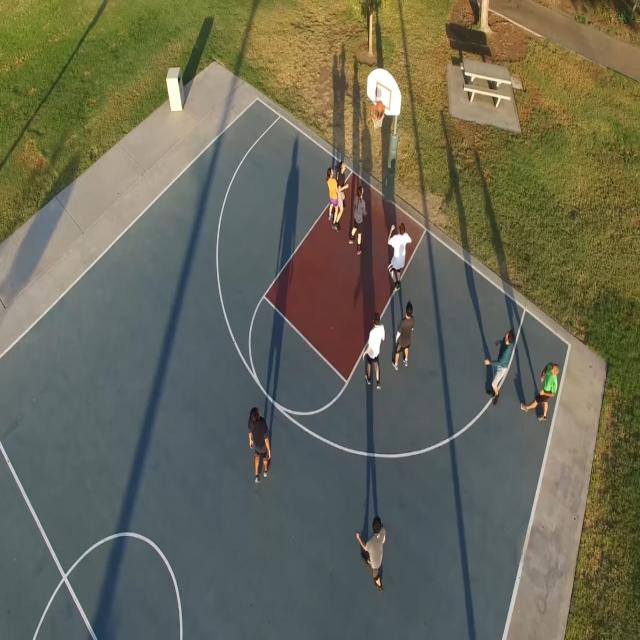humans: (356, 512, 389, 596), (521, 355, 560, 425), (482, 326, 516, 406), (245, 400, 275, 488), (384, 216, 412, 299), (391, 295, 416, 372), (361, 310, 384, 391), (350, 179, 370, 256), (334, 155, 351, 214), (323, 164, 338, 226)
